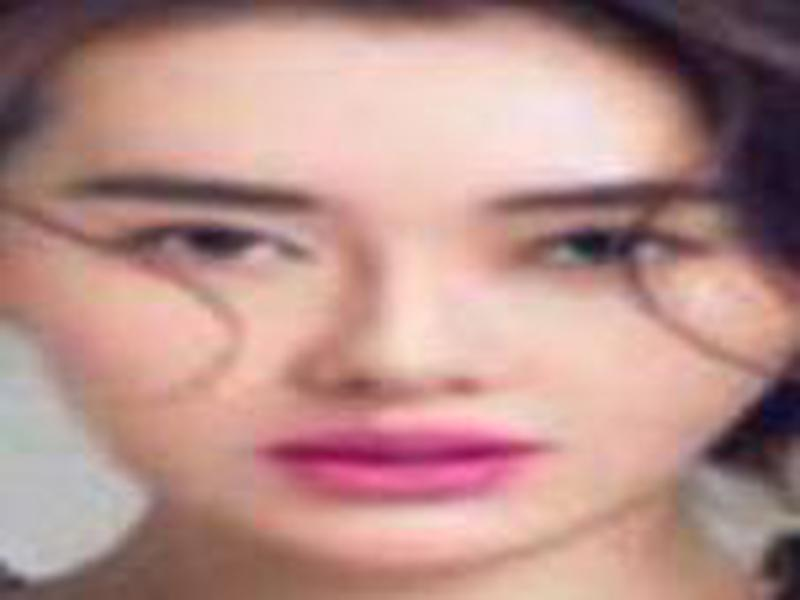without_mask: (19, 68, 763, 567)
